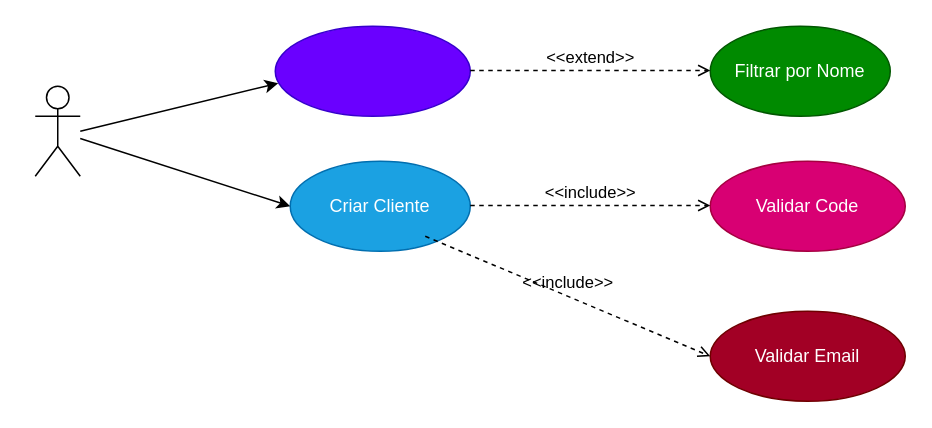
This 932x428 diagram has some shape labels left out. The shapes that lost their labels are listed below. From the top down, each one's centre as x and y in pixels, then its label:
the point at 372,70: Listar todos os clientes
the point at 57,130: Sistema
